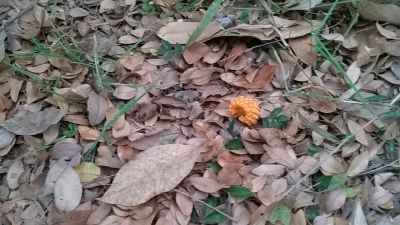eggs: (230, 96, 261, 126)
